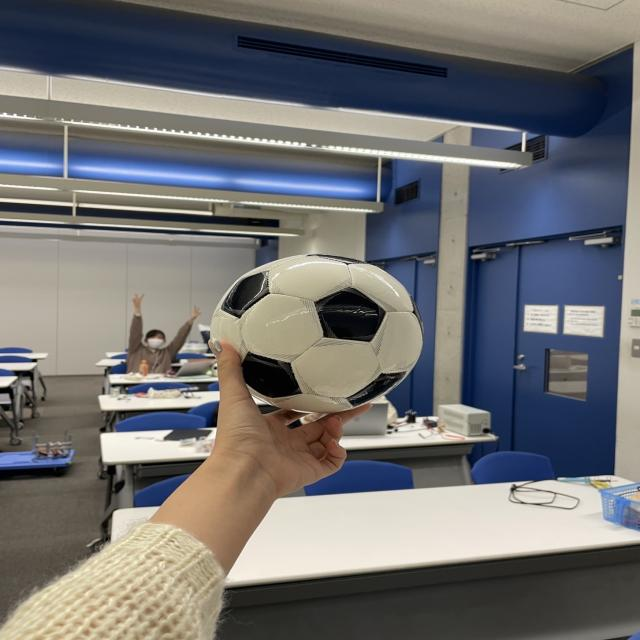ball: (212, 255, 416, 406)
